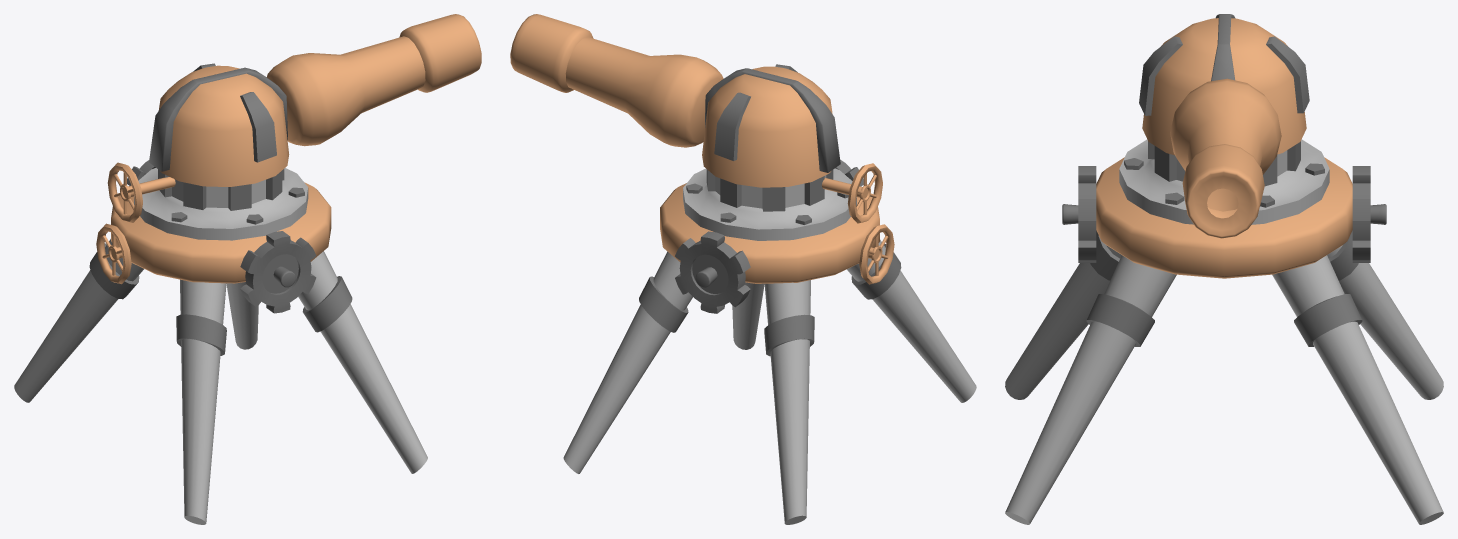
File: Cannon.fbx
The picture shows the model from 3 angles, left to right: view 1: azimuth 30°, elevation 25°; view 2: azimuth 150°, elevation 25°; view 3: azimuth 270°, elevation 25°; orthographic projection. The views are drawn at different scales.
Visible parts, largest first — view 1: Cannon, Cannon.001; view 2: Cannon, Cannon.001; view 3: Cannon, Cannon.001.
Boxes of the visible parts, box(x1,y1,x2,y2) form: Cannon: box(14, 63, 427, 524); Cannon.001: box(267, 14, 481, 146); Cannon: box(563, 64, 976, 524); Cannon.001: box(510, 14, 723, 147); Cannon: box(1005, 14, 1443, 524); Cannon.001: box(1170, 78, 1281, 238).
Bounding box in the file's own units: 318 × 299 × 274.
